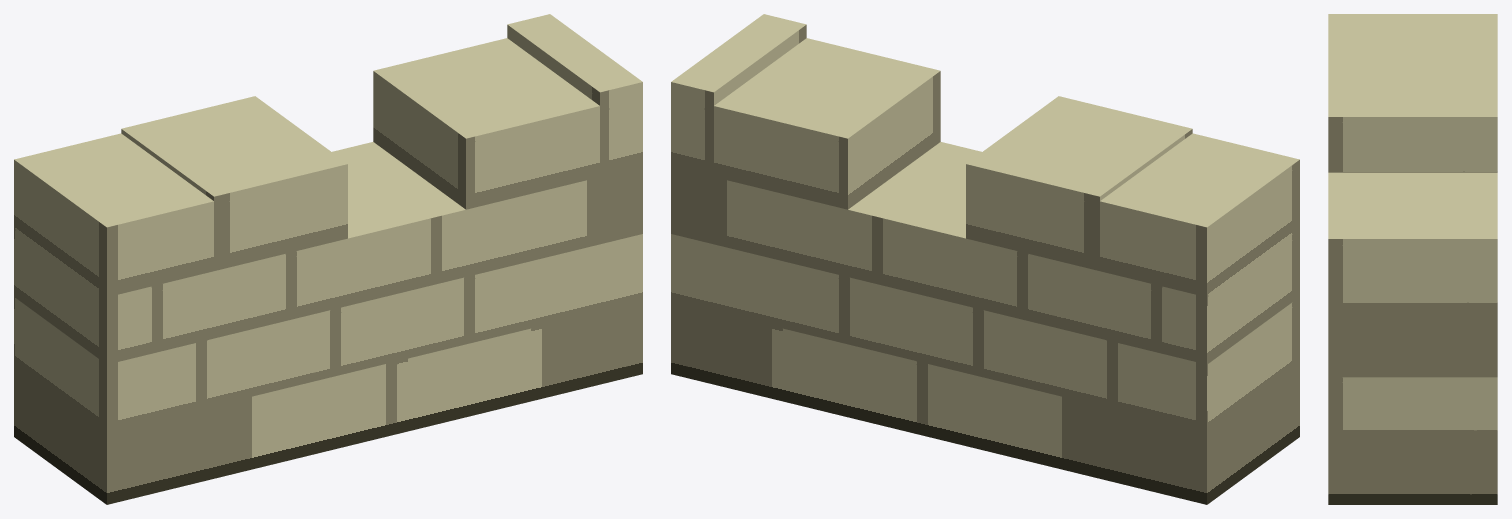
3 views of the same model, side by side, from view 1: azimuth 30°, elevation 25°; view 2: azimuth 150°, elevation 25°; view 3: azimuth 270°, elevation 25° (orthographic). The views are drawn at different scales.
Visible parts, largest first — view 1: prop; view 2: prop; view 3: prop.
Part boxes in pixels (x1,y1,x2,y2): prop: (14, 14, 642, 504); prop: (671, 14, 1299, 504); prop: (1328, 14, 1497, 504).
Bounding box in the file's own units: 1 × 0.5208 × 0.3.
Materials: 1 (1 with a texture image).
